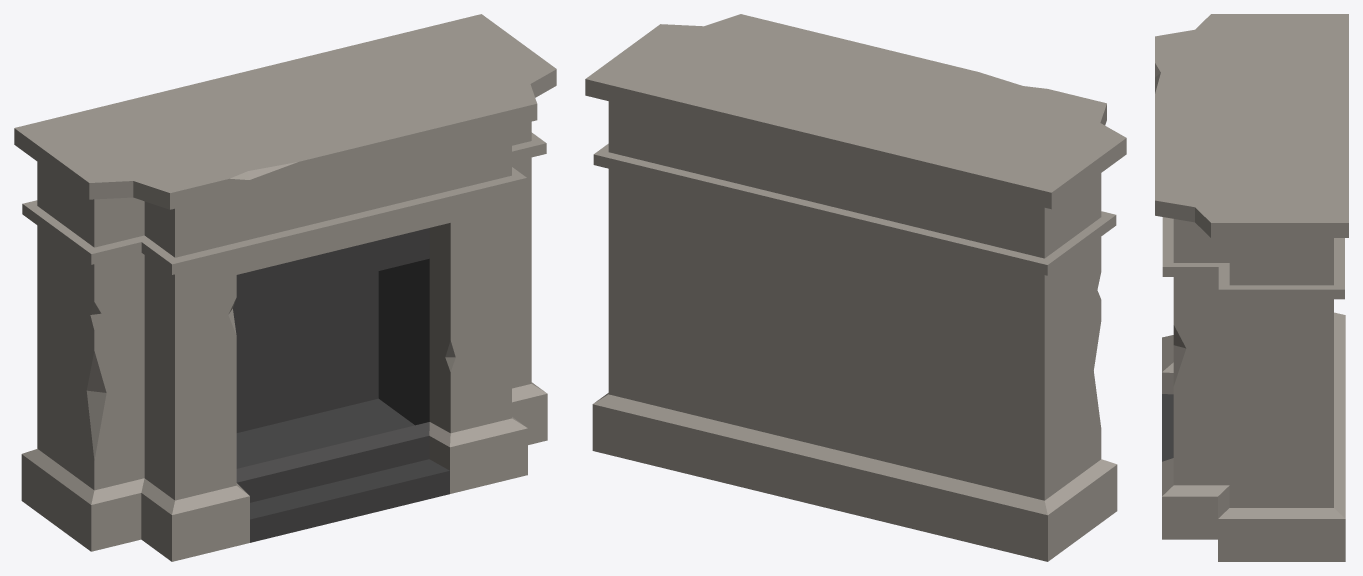
Rendered from SM_Prop_Fireplace_01.fbx.
The picture shows the model from 3 angles, left to right: view 1: azimuth 30°, elevation 25°; view 2: azimuth 150°, elevation 25°; view 3: azimuth 270°, elevation 25°; orthographic projection. The views are drawn at different scales.
Parts seen in each view (by area): view 1: SM_Prop_Fireplace_01; view 2: SM_Prop_Fireplace_01; view 3: SM_Prop_Fireplace_01.
Boxes of the visible parts, <box> form: SM_Prop_Fireplace_01: <box>14,14,556,561</box>; SM_Prop_Fireplace_01: <box>585,14,1126,561</box>; SM_Prop_Fireplace_01: <box>1155,14,1348,561</box>.
Size of the model in its own units: 171 by 130 by 66.85.
